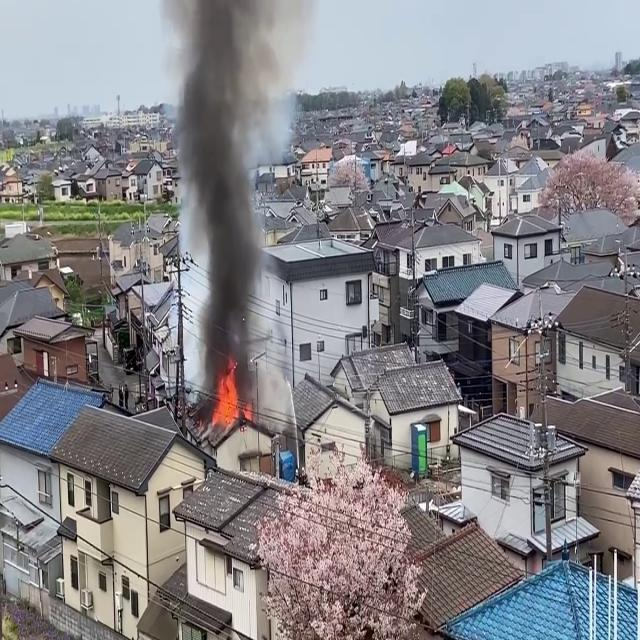Fire: (209, 362, 244, 432)
Smoke: (170, 0, 278, 395)
